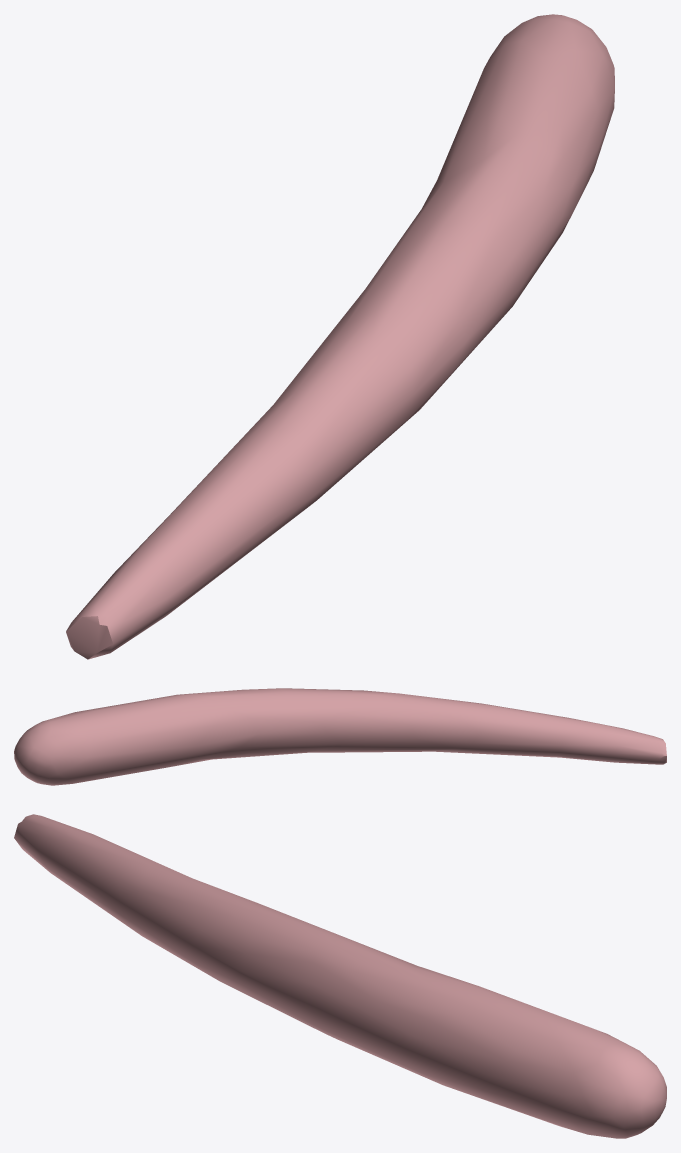
File: fma68213_fj6570.glb
3 views of the same model, one above another, from view 1: azimuth 30°, elevation 25°; view 2: azimuth 150°, elevation 25°; view 3: azimuth 270°, elevation 25° (orthographic). The views are drawn at different scales.
Visible parts, largest first — view 1: FMA68213_FJ6570; view 2: FMA68213_FJ6570; view 3: FMA68213_FJ6570.
Part boxes in pixels (<box>): FMA68213_FJ6570: <box>66,14,614,659</box>; FMA68213_FJ6570: <box>14,688,666,785</box>; FMA68213_FJ6570: <box>14,814,666,1138</box>.
Size of the model in its own units: 0.0186 by 0.00314 by 0.015.
